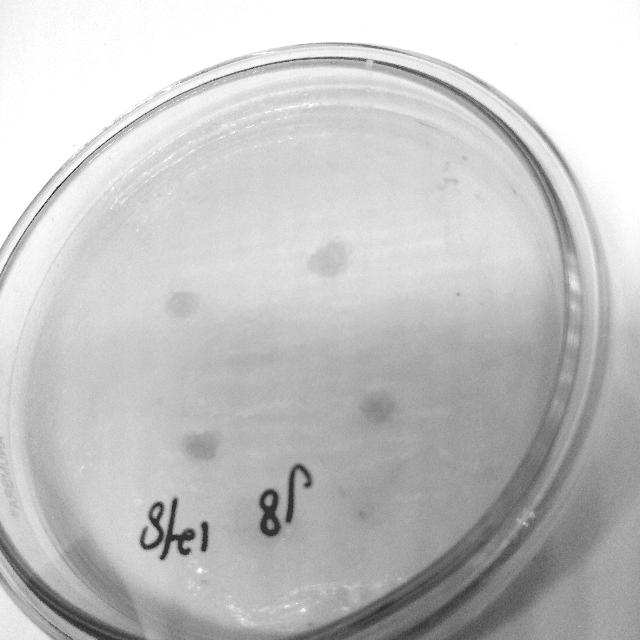colony: (305, 234, 357, 284), (176, 425, 224, 465), (358, 385, 398, 425), (162, 286, 200, 320)
